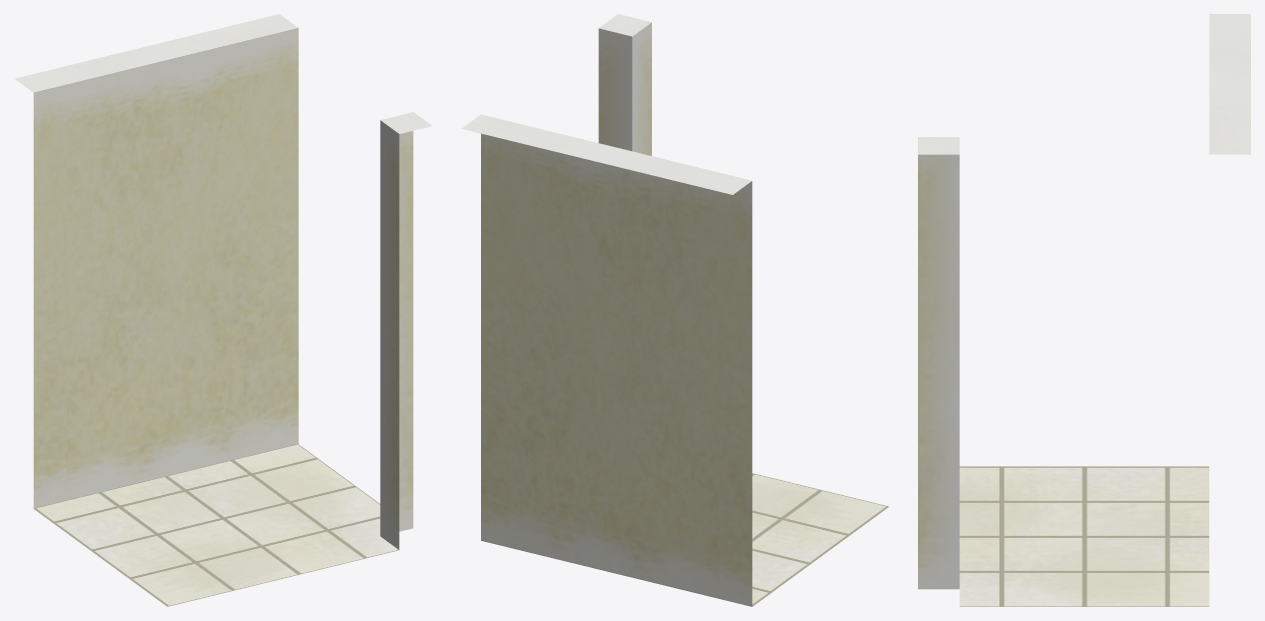
Rendered from maze_3way1columnRight.FBX.
3 renders of one model, left to right at view 1: azimuth 30°, elevation 25°; view 2: azimuth 150°, elevation 25°; view 3: azimuth 270°, elevation 25°, orthographic. The views are drawn at different scales.
Visible parts, largest first — view 1: Plane01; view 2: Plane01; view 3: Plane01.
Boxes of the visible parts, left/top/right/bottom form: Plane01: left=15, top=14, right=431, bottom=606; Plane01: left=461, top=14, right=889, bottom=606; Plane01: left=918, top=14, right=1250, bottom=606.
Bounding box in the file's own units: 32 × 48 × 32.
